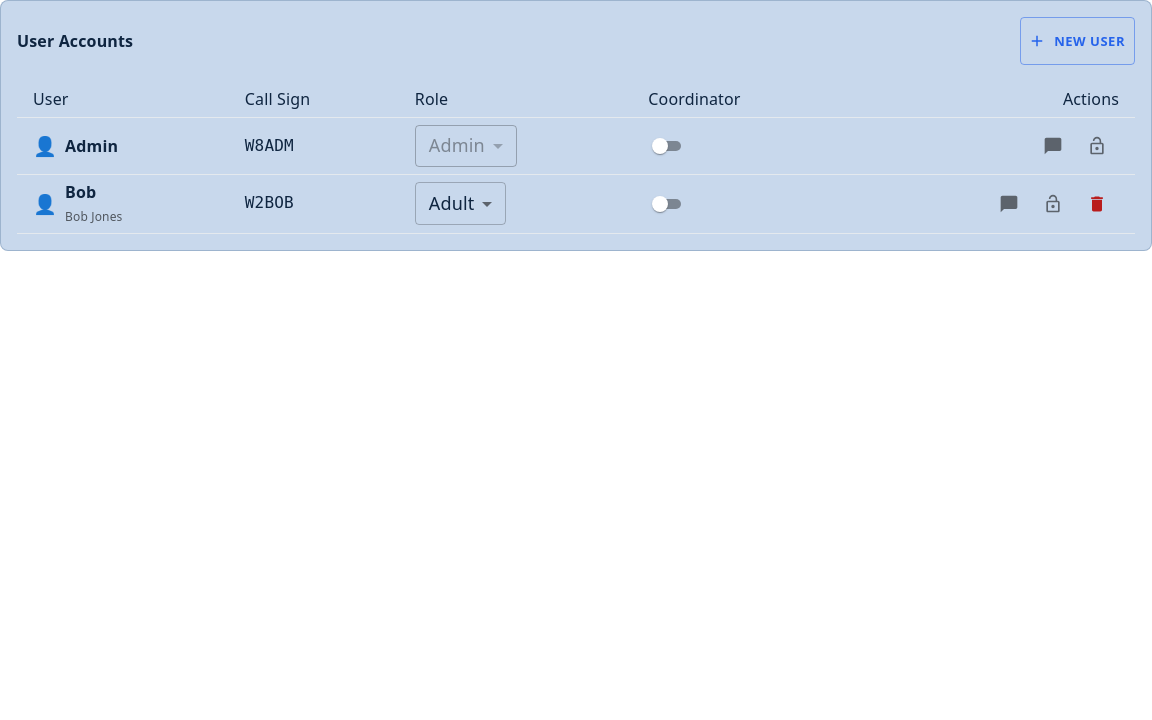
it: UsersPanel › opens the create user dialog when New User is clicked
Click the button "New User": (1078, 41) [1020, 17, 1135, 65]
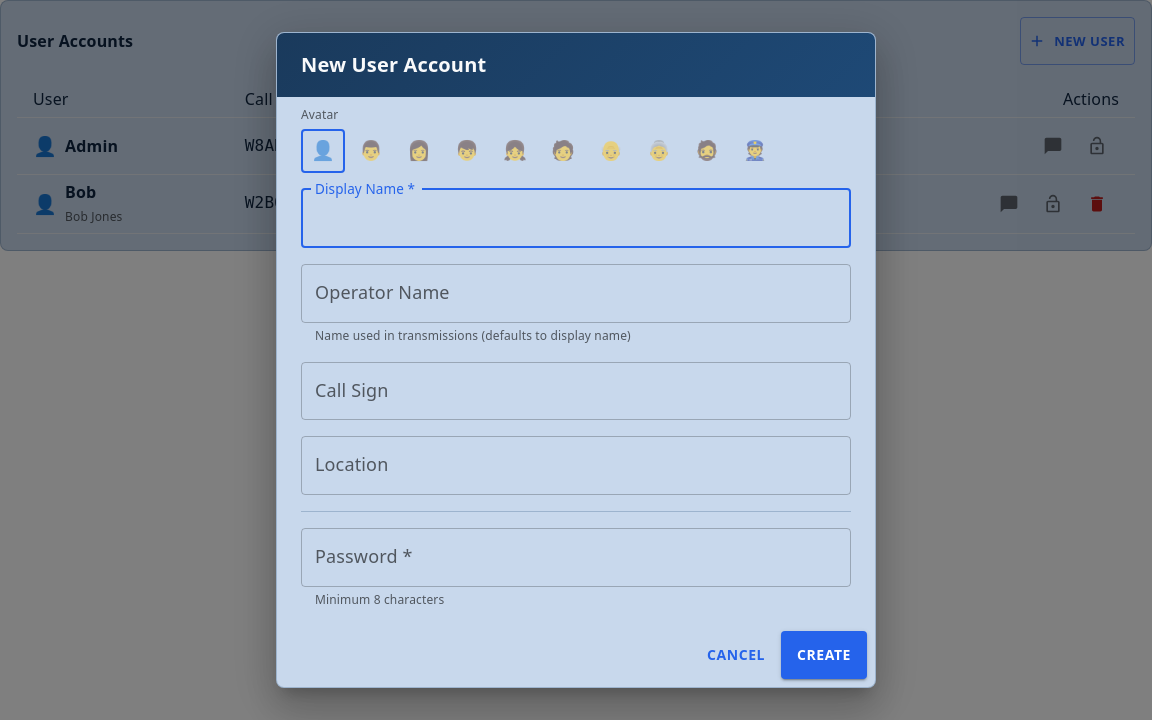
Now the dialog is shown, box [276, 32, 876, 688]
Now the heading "New User Account" is shown, box [277, 33, 875, 97]
